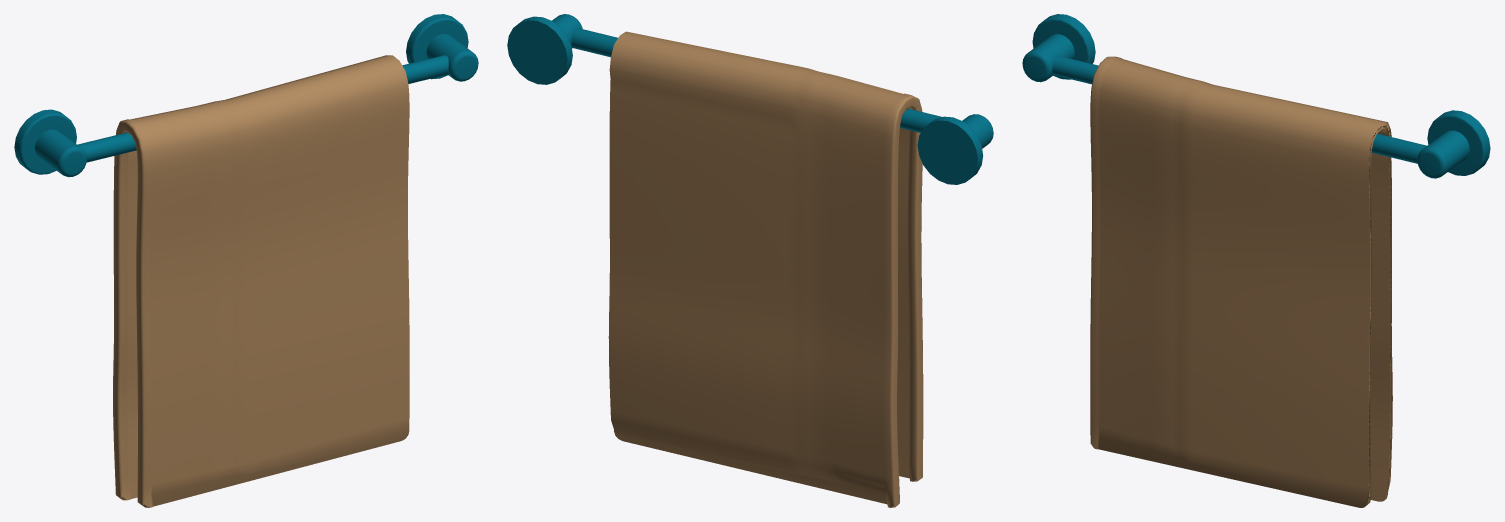
The model's file is towel.fbx.
3 views of the same model, side by side, from view 1: azimuth 30°, elevation 25°; view 2: azimuth 150°, elevation 25°; view 3: azimuth 330°, elevation 25° (orthographic). The views are drawn at different scales.
Visible parts, largest first — view 1: towel1; view 2: towel1; view 3: towel1.
Part boxes in pixels (bbox=[...]): towel1: bbox=[14, 14, 478, 507]; towel1: bbox=[507, 14, 993, 507]; towel1: bbox=[1022, 14, 1490, 507].
Bounding box in the file's own units: 78 × 65.39 × 12.32.
